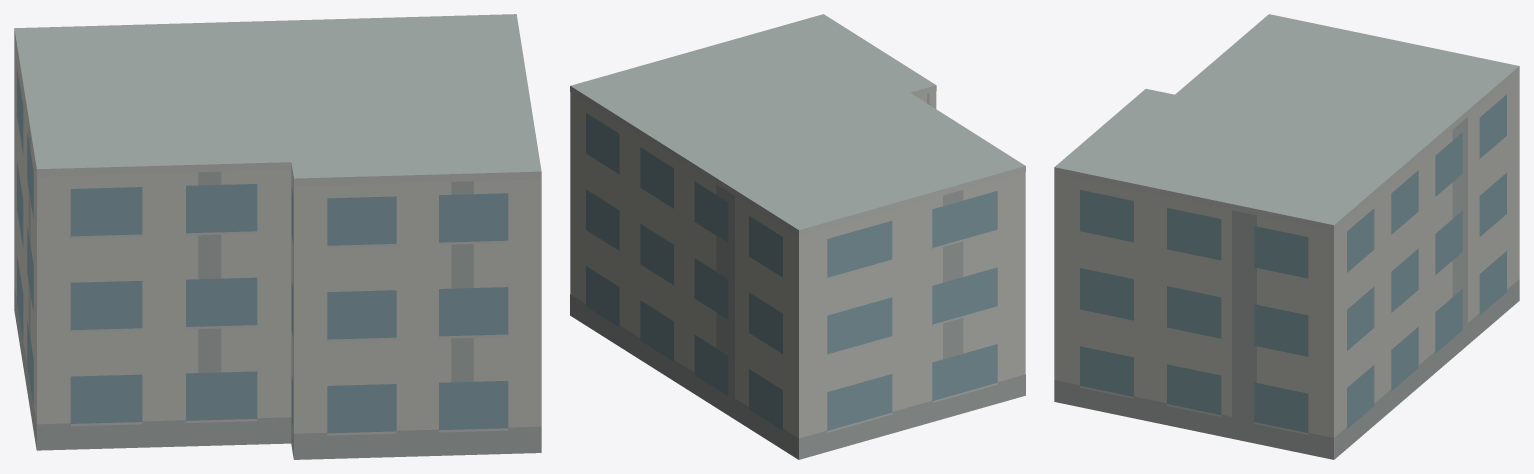
The model's file is residential-2c4fdbb3-a854-481d-8630-d3f58b959af5.glb.
The picture shows the model from 3 angles, left to right: view 1: azimuth 30°, elevation 25°; view 2: azimuth 150°, elevation 25°; view 3: azimuth 270°, elevation 25°; orthographic projection. The views are drawn at different scales.
Parts seen in each view (by area): view 1: residential-2c4fdbb3-a854-481d-8630-d3f58b959af5.tmp; view 2: residential-2c4fdbb3-a854-481d-8630-d3f58b959af5.tmp; view 3: residential-2c4fdbb3-a854-481d-8630-d3f58b959af5.tmp.
Part boxes in pixels (x1,y1,x2,y2): residential-2c4fdbb3-a854-481d-8630-d3f58b959af5.tmp: (14, 14, 541, 459); residential-2c4fdbb3-a854-481d-8630-d3f58b959af5.tmp: (570, 14, 1025, 459); residential-2c4fdbb3-a854-481d-8630-d3f58b959af5.tmp: (1054, 14, 1519, 459).
Size of the model in its own units: 17.38 by 9 by 16.17.
